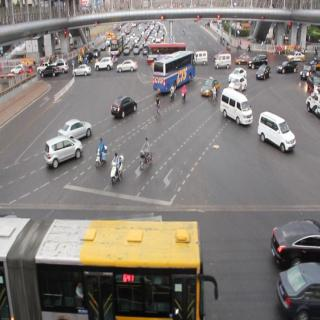BigCar: (0, 202, 224, 320), (153, 48, 197, 92), (144, 36, 188, 61)
Car: (266, 206, 320, 270), (275, 266, 320, 320), (257, 106, 297, 158), (40, 130, 83, 172), (219, 86, 248, 132), (109, 90, 141, 126), (61, 110, 90, 142), (202, 67, 220, 101), (230, 66, 250, 96), (12, 61, 36, 80), (117, 56, 137, 77), (72, 60, 90, 82), (37, 64, 59, 82), (194, 44, 211, 67), (92, 56, 114, 71), (251, 48, 267, 68), (217, 50, 233, 70), (280, 58, 296, 75), (287, 50, 307, 63), (255, 61, 268, 80), (52, 60, 69, 74), (302, 61, 316, 76), (235, 52, 251, 64)
